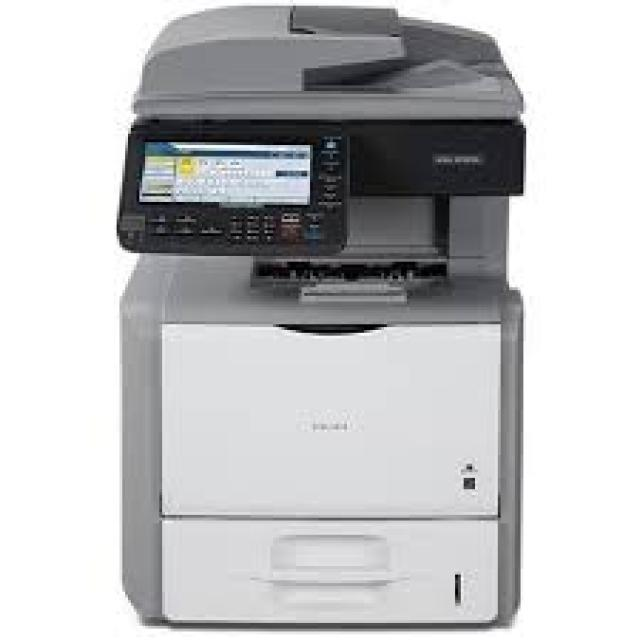printer: (114, 0, 526, 629)
